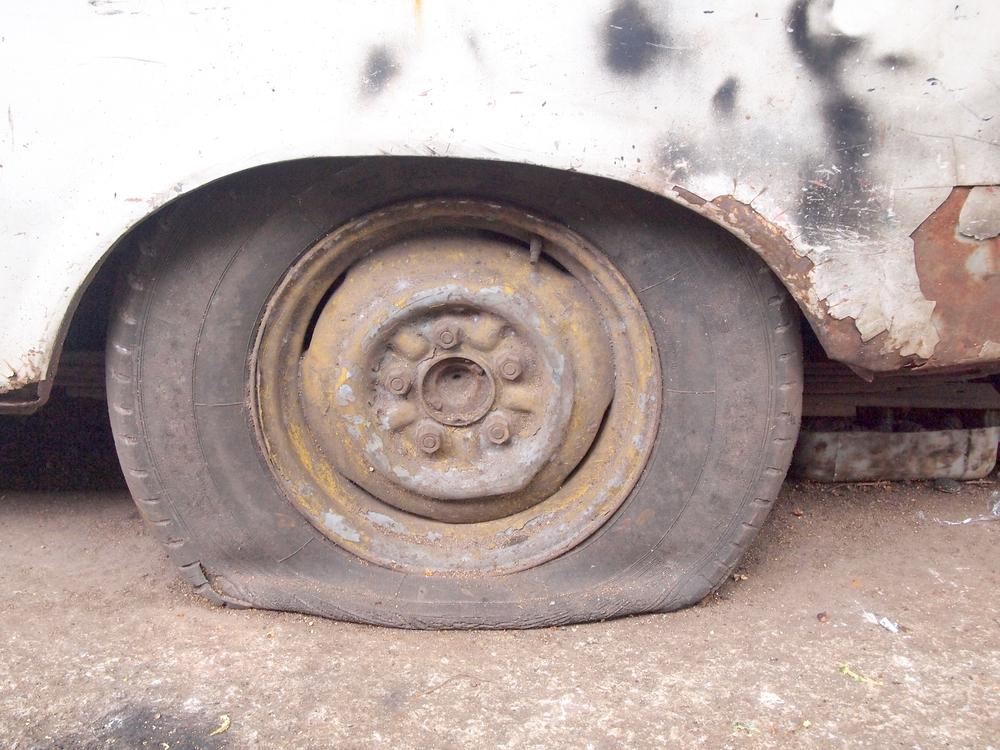tire flat: (104, 155, 804, 629)
